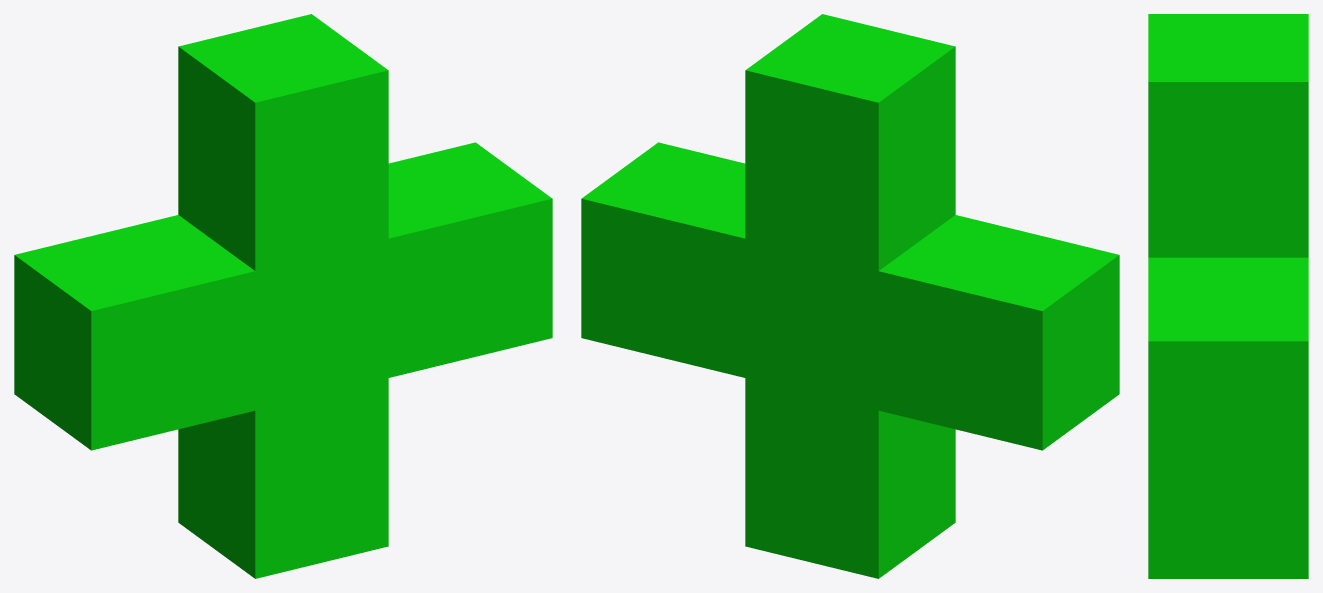
Rendered from heal.fbx.
3 views of the same model, side by side, from view 1: azimuth 30°, elevation 25°; view 2: azimuth 150°, elevation 25°; view 3: azimuth 270°, elevation 25° (orthographic). The views are drawn at different scales.
Visible parts, largest first — view 1: pCube1; view 2: pCube1; view 3: pCube1.
Boxes of the visible parts, x1,y1,x2,y2 form: pCube1: (14,14,552,578); pCube1: (581,14,1119,578); pCube1: (1148,14,1308,578).
Bounding box in the file's own units: 173 × 171 × 50.
